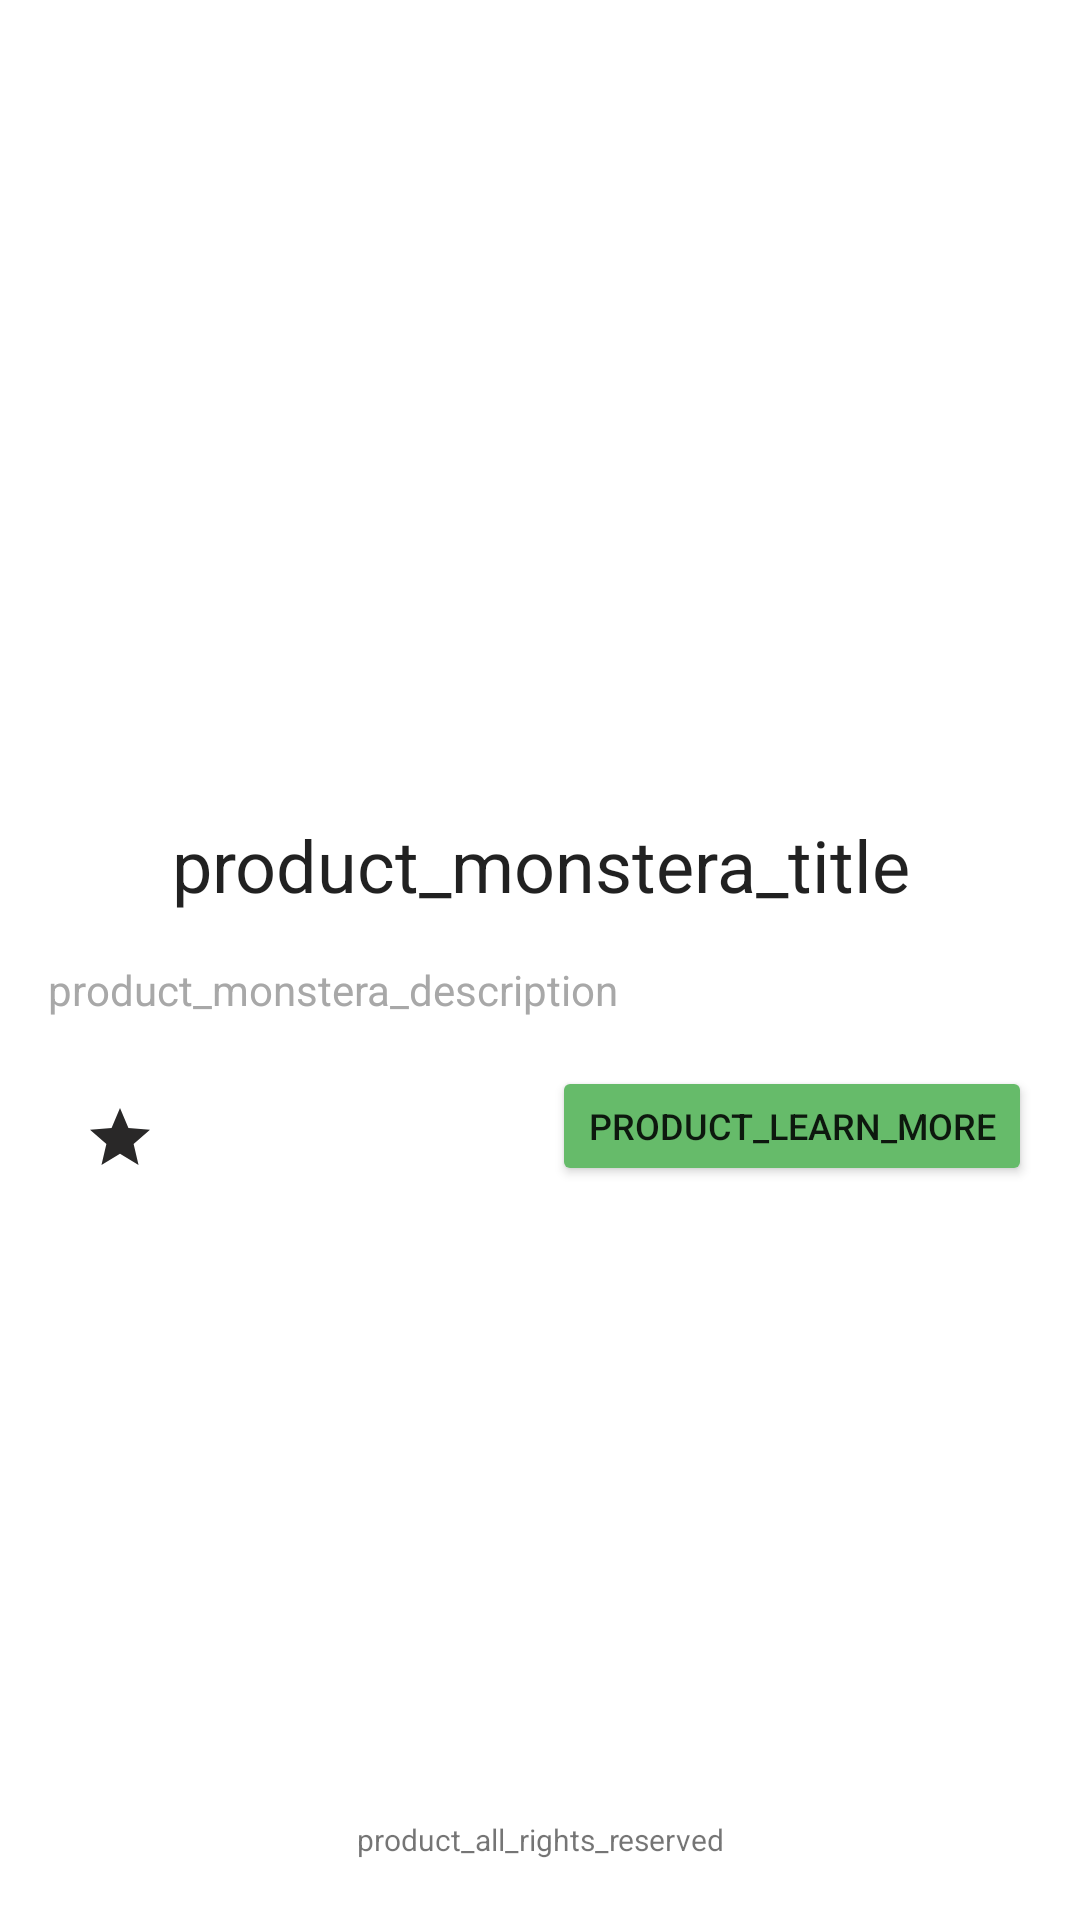

Icon click points for this 1080x1920 phone screenshot, format (x=x, y=y):
star: (x=120, y=1136)
